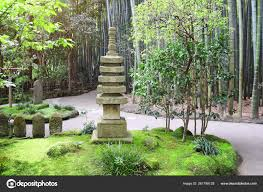bamboo: (126, 1, 214, 132), (46, 4, 103, 92), (220, 1, 263, 115)
